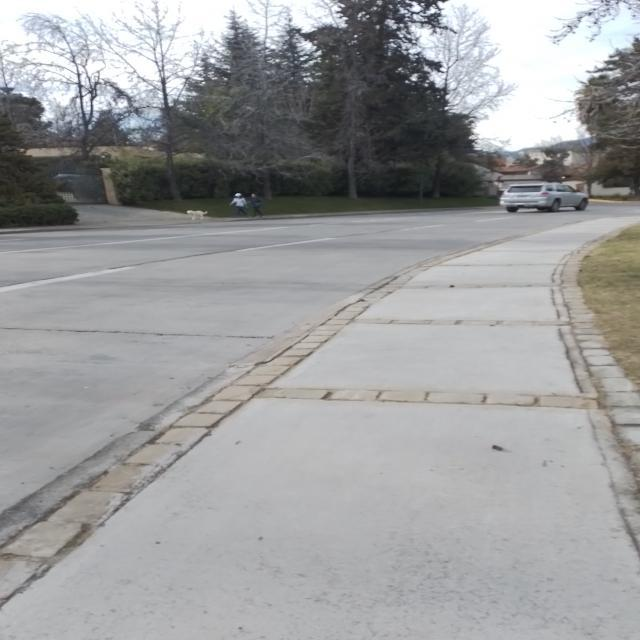person: (226, 192, 251, 218), (246, 192, 264, 220)
